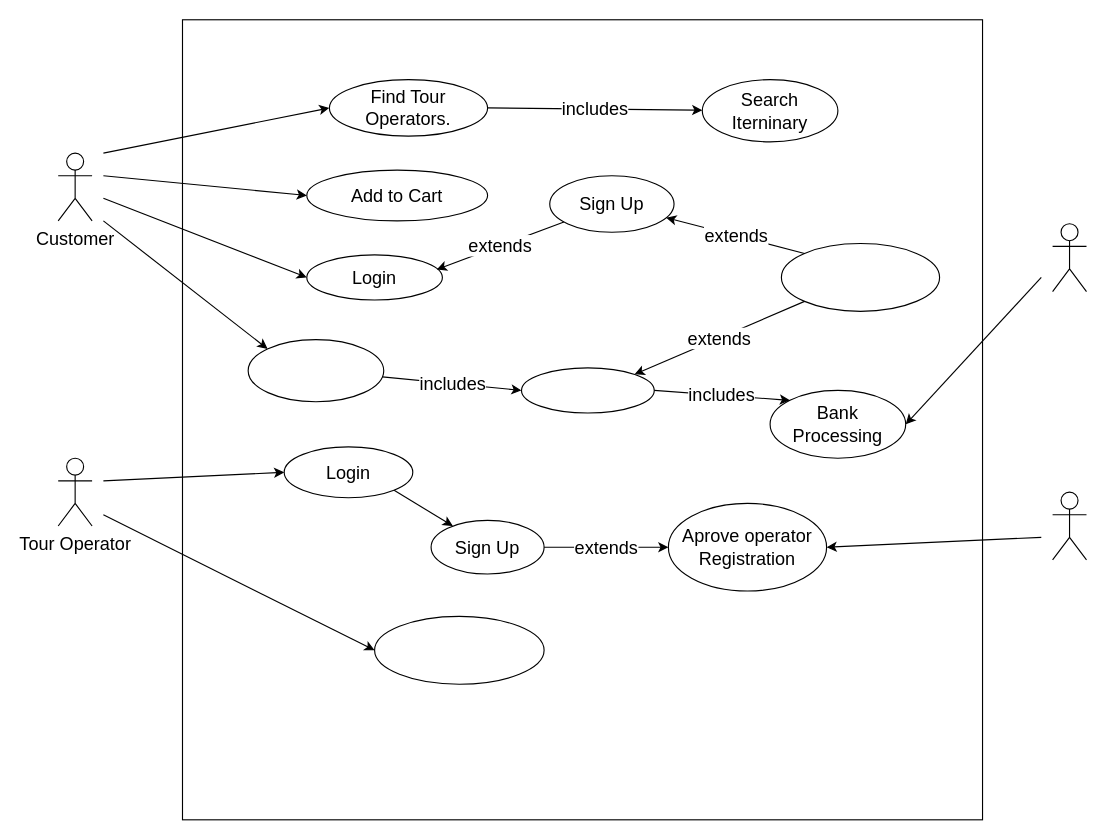
Some shapes in this 1119 by 840 pixel diagram are drawn without their labels. Here are the shapes that lost their labels. From the top down, the box of each, then its label:
(780, 242, 940, 311): Add payment method
(1051, 223, 1086, 292): System
(247, 338, 384, 402): Purchase Pakage
(520, 367, 654, 413): Payment
(1051, 491, 1086, 560): Admin
(373, 615, 544, 684): create Intineariray Plan
